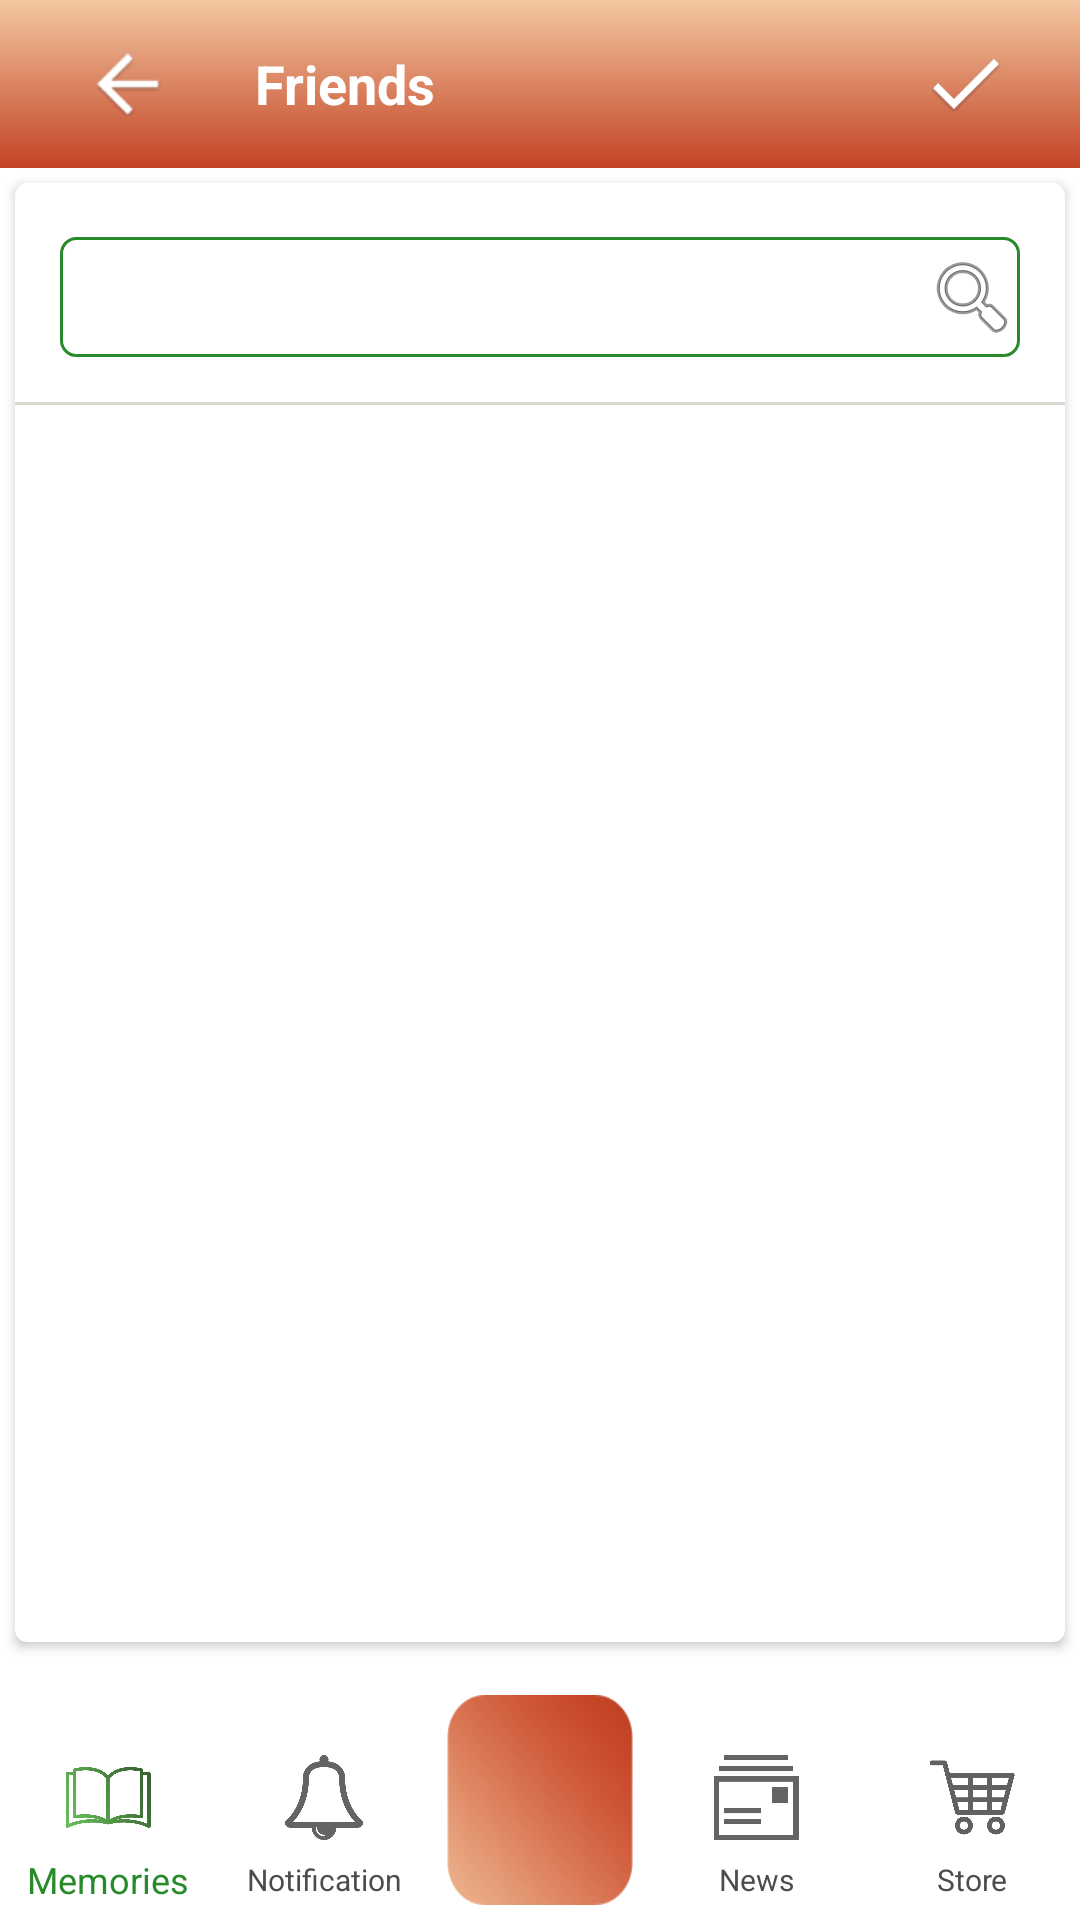

Screen size 1080w x 1920h. Icon name, then its box in pixels as box=[x1, y1, x2, y2]:
book two: box=[66, 1767, 151, 1828]
